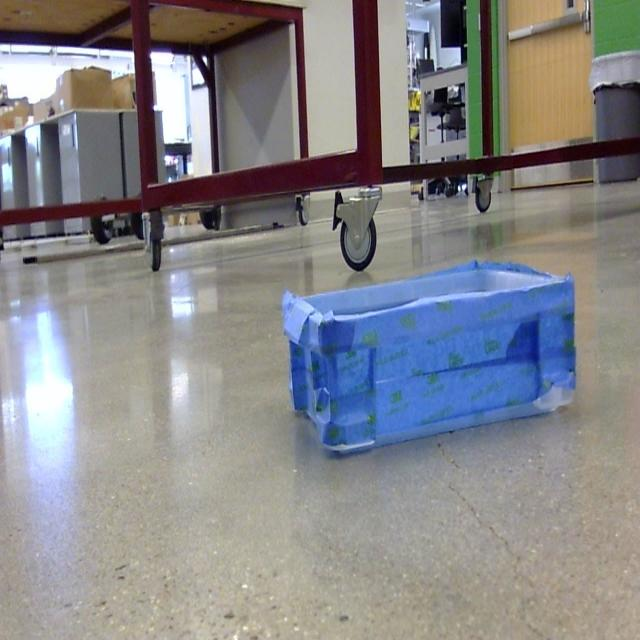bucket: (280, 262, 577, 460)
